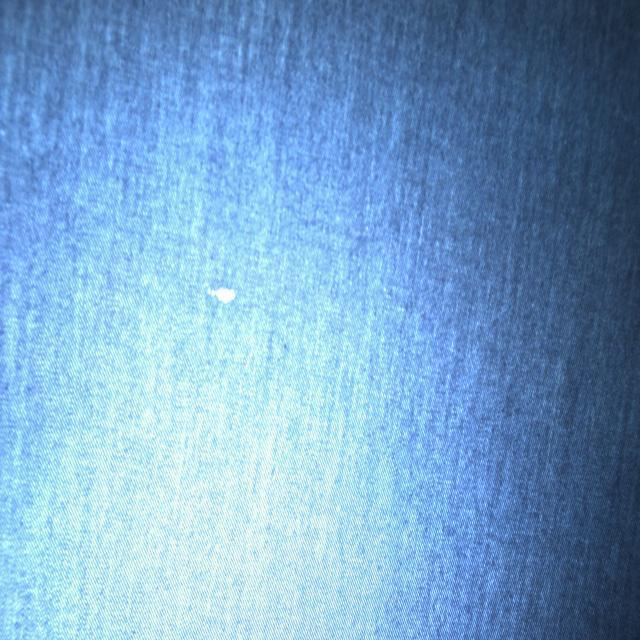pulled_or_thick_thread: (208, 284, 252, 308)
